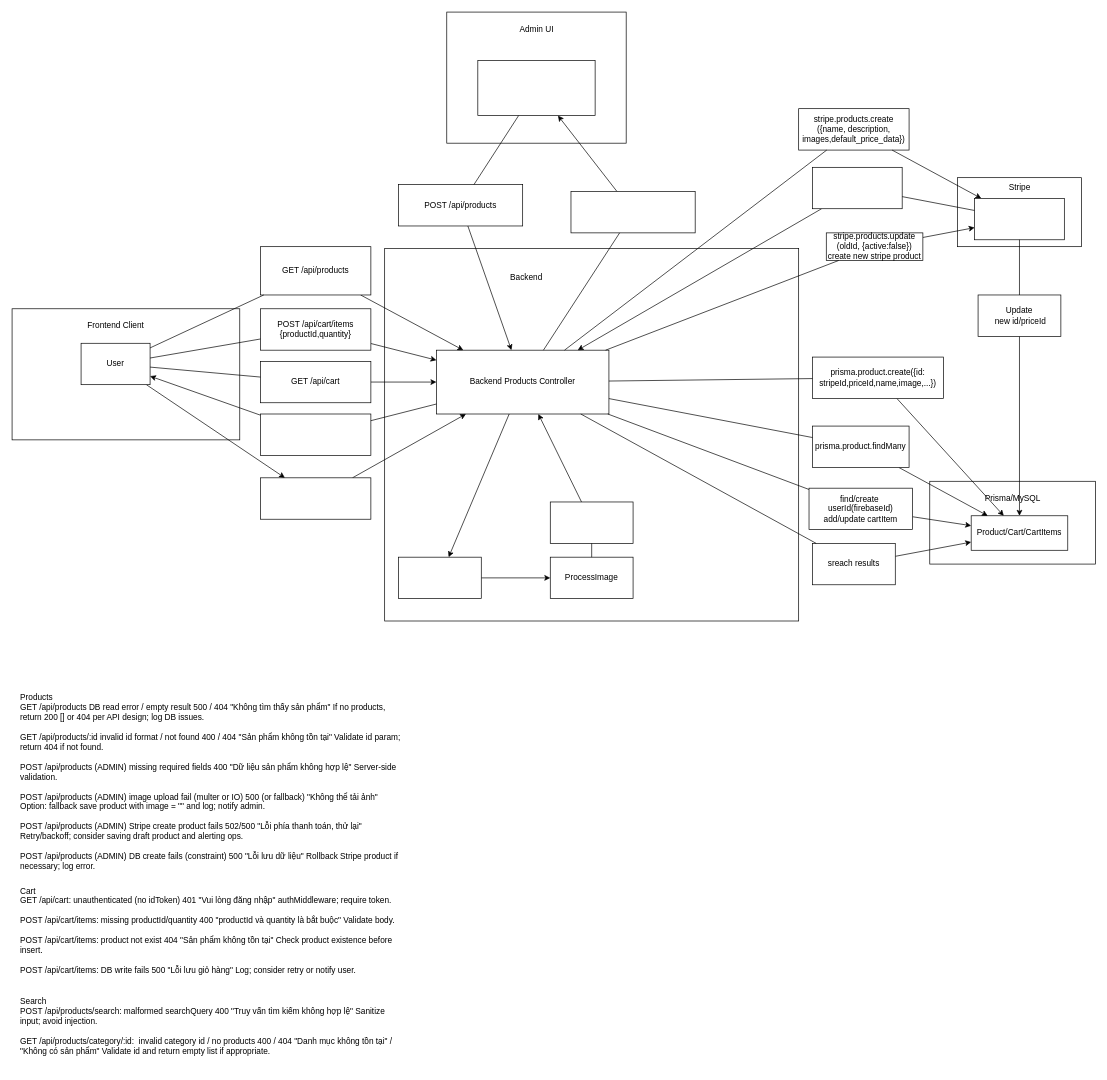
Some shapes in this 1107 by 1080 pixel diagram are drawn without their labels. Each missing label, with the centre of its shape:
"Admin" belongs at point 536,88.
"auth.createCustomToken(uid) + SetCustomUsserClaims(role)" belongs at point 632,212.
"Cart + Product details" belongs at point 315,434.
"image URL" belongs at point 591,522.
"Multer middleware" belongs at point 439,577.
"POST /api/products/search" belongs at point 315,498.
"Stripe Products/Prices" belongs at point 1019,219.
"stripeProduct{id, default_price}" belongs at point 857,188.
